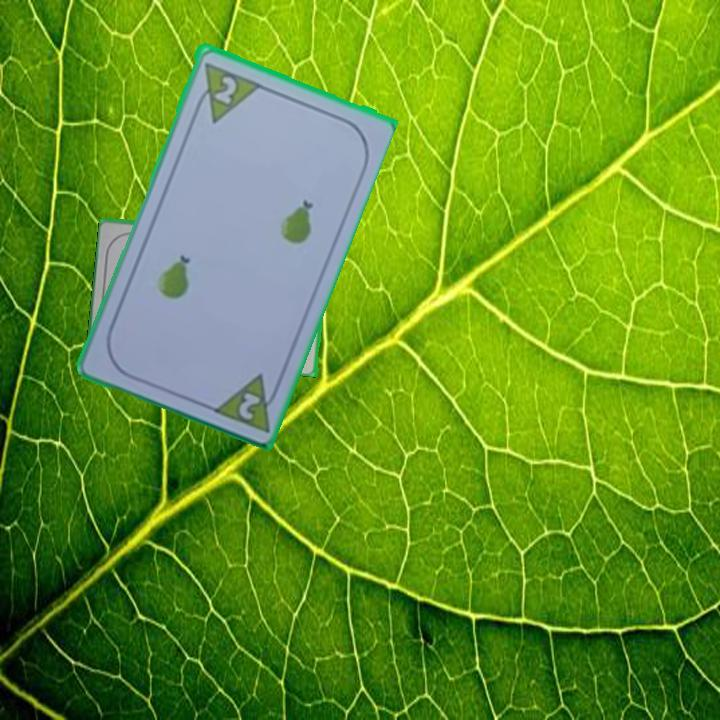2p: (210, 71, 240, 107), (234, 387, 263, 423)
